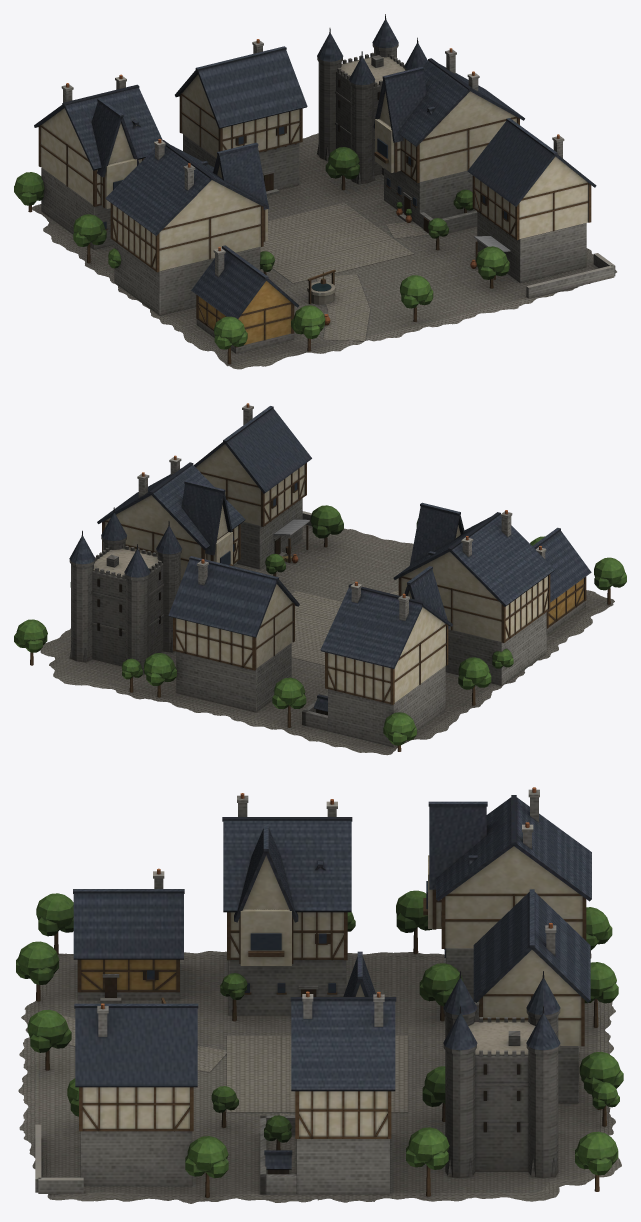
The model's file is kingdoms-town-small-b-europe.glb.
3 views of the same model, one above another, from view 1: azimuth 30°, elevation 25°; view 2: azimuth 150°, elevation 25°; view 3: azimuth 270°, elevation 25° (orthographic). The views are drawn at different scales.
Parts seen in each view (by area): view 1: LOD0; view 2: LOD0; view 3: LOD0.
Boxes of the visible parts, x1,y1,x2,y2 form: LOD0: (14, 14, 616, 369); LOD0: (14, 403, 626, 755); LOD0: (16, 787, 623, 1203).
Size of what is drawn, in the model's own units: 4.11 by 1.35 by 4.06.
3 materials, 3 textured.
